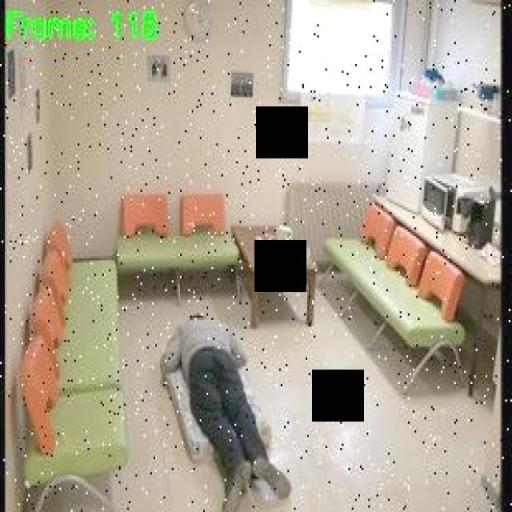Fall: (172, 314, 286, 510)
